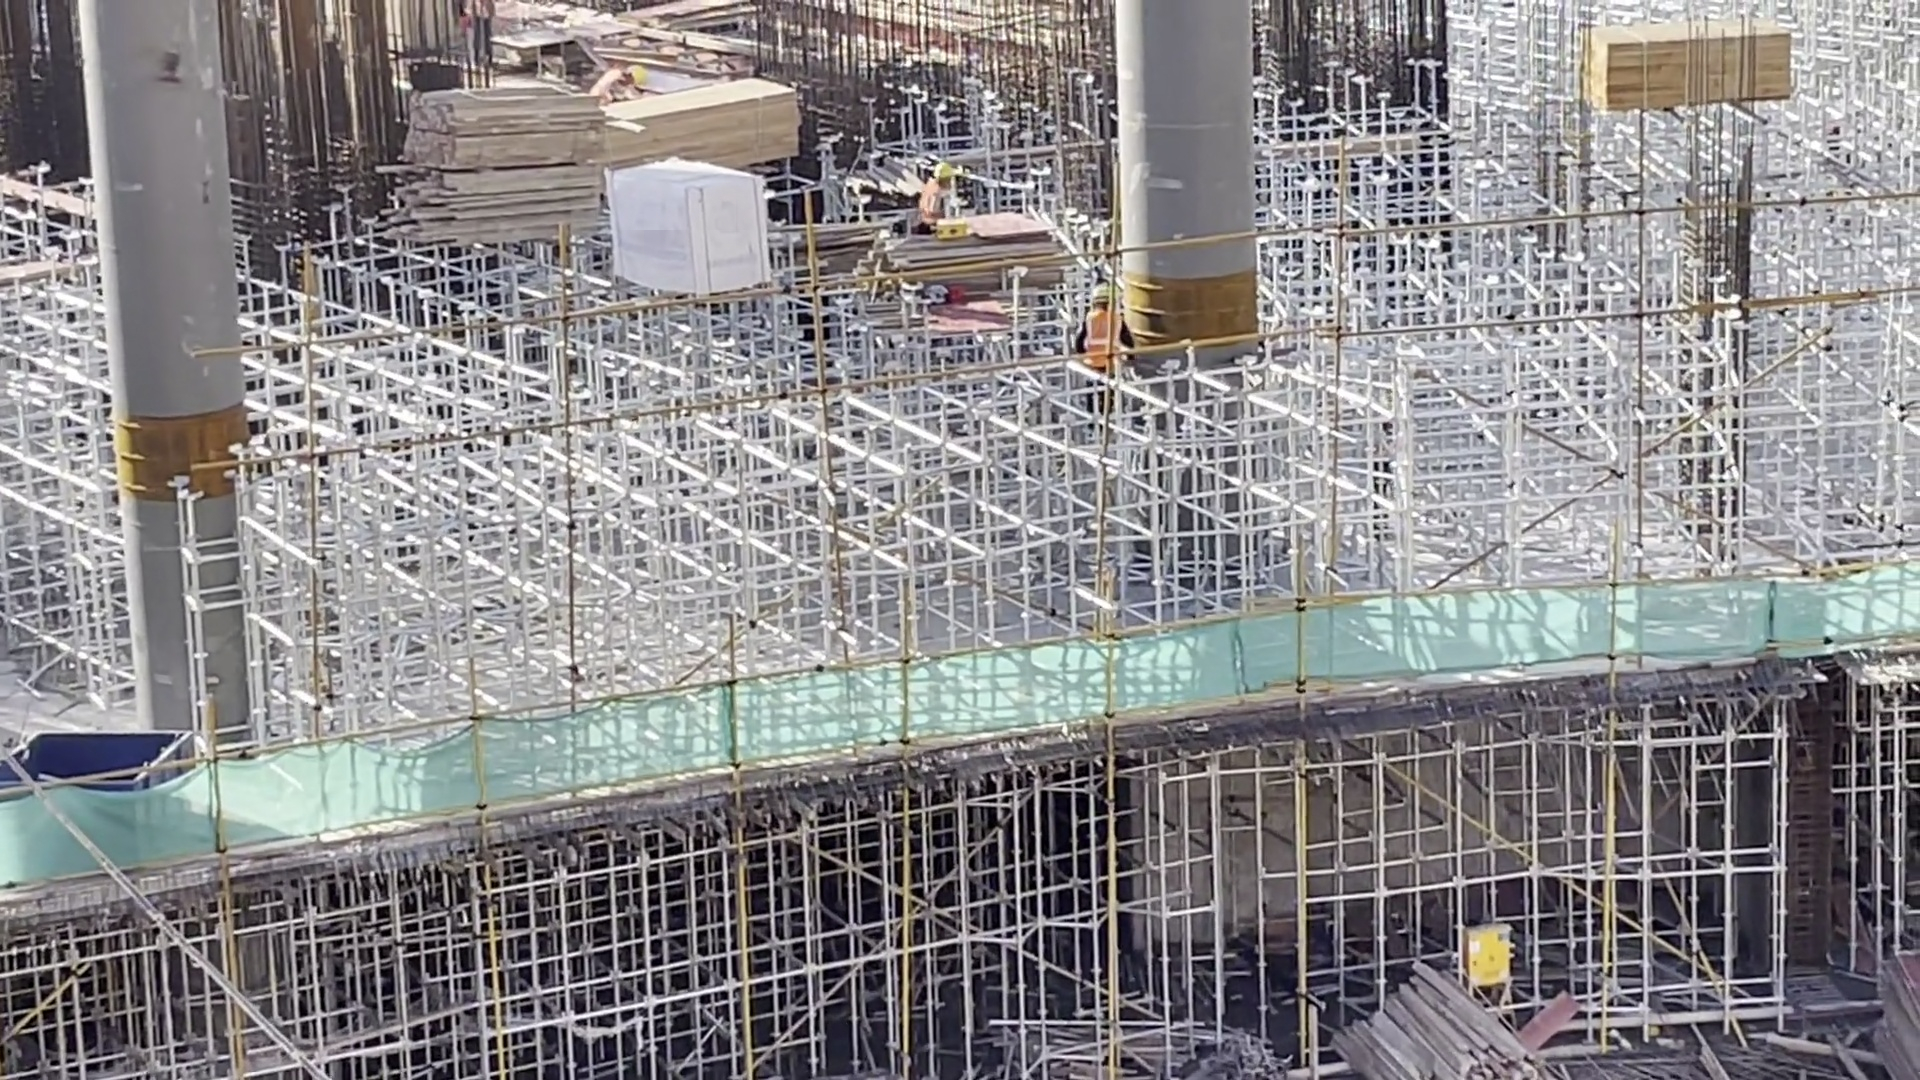board: (881, 209, 1066, 295)
ebox: (1462, 923, 1518, 998)
helmet: (627, 64, 649, 87), (932, 162, 953, 179), (1093, 282, 1110, 301)
hopper: (11, 727, 200, 780)
person: (1074, 282, 1133, 354), (591, 64, 651, 104), (919, 162, 957, 223)
vest: (593, 70, 625, 100), (921, 182, 946, 220), (1085, 310, 1107, 355)
wood: (377, 90, 608, 248), (1330, 957, 1550, 1080), (1582, 17, 1801, 116), (600, 79, 800, 167)
